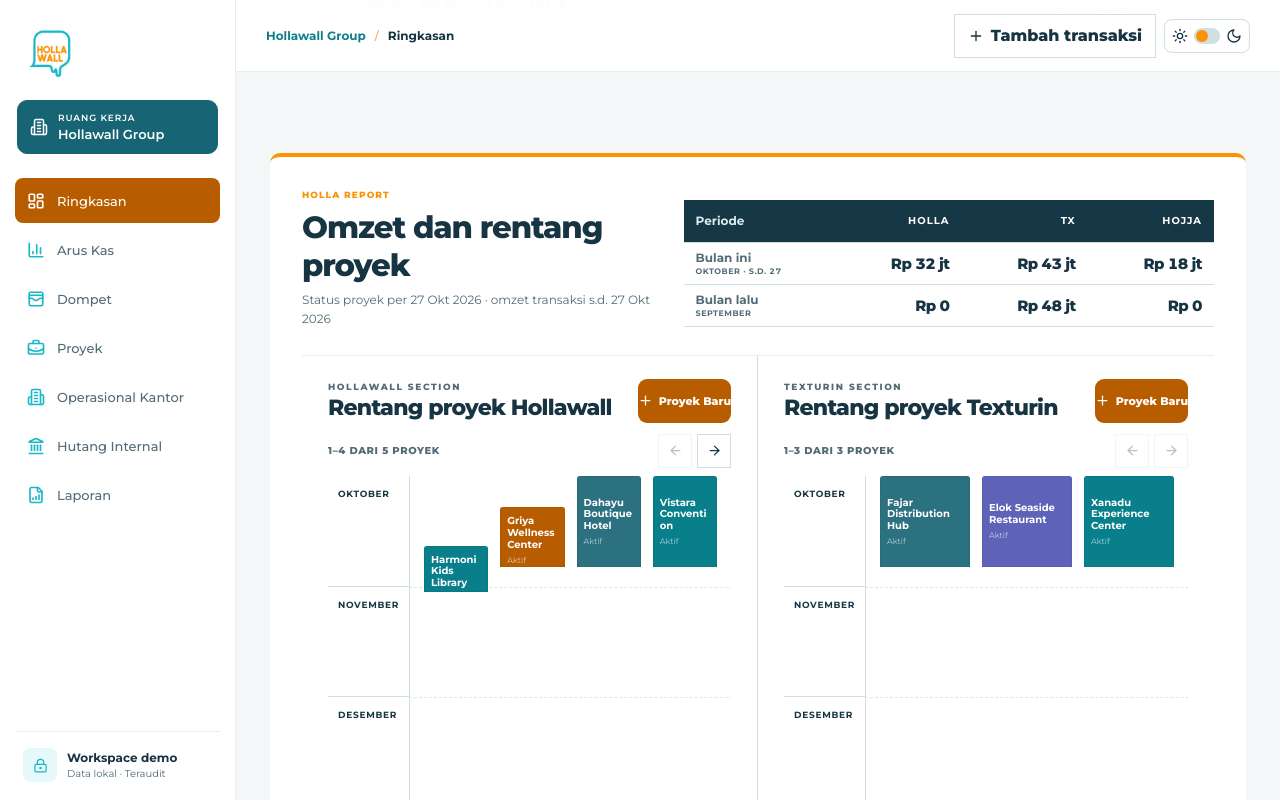
Test case: Hollawall demo finance workspace › connects the restored project timeline to the writable demo workspace
(page scrolled)
Step 1. Click the button with aria-label "Tambah proyek Hollawall" → (684, 401), box 638,379 -> 731,423
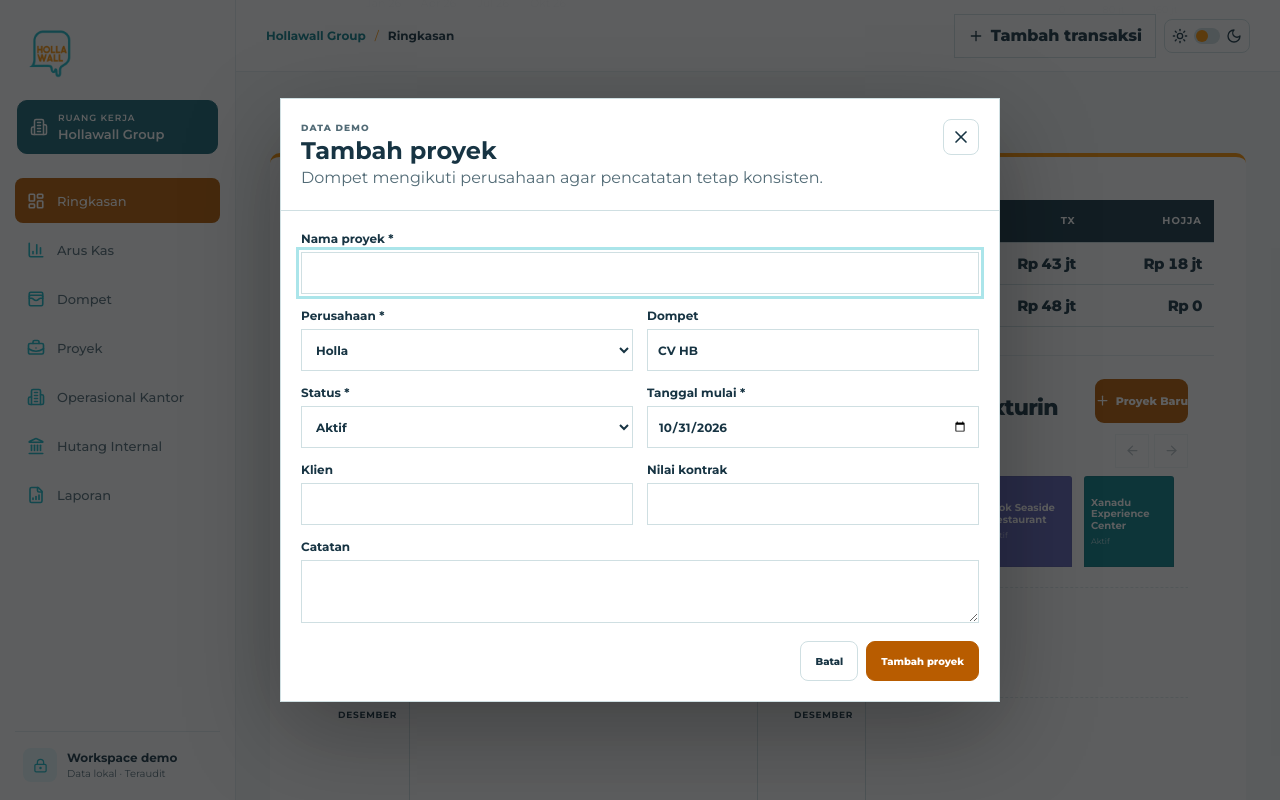
Now the dialog is shown, box 280,98 -> 1000,702
Now the heading "Tambah proyek" is shown, box 301,136 -> 497,165
